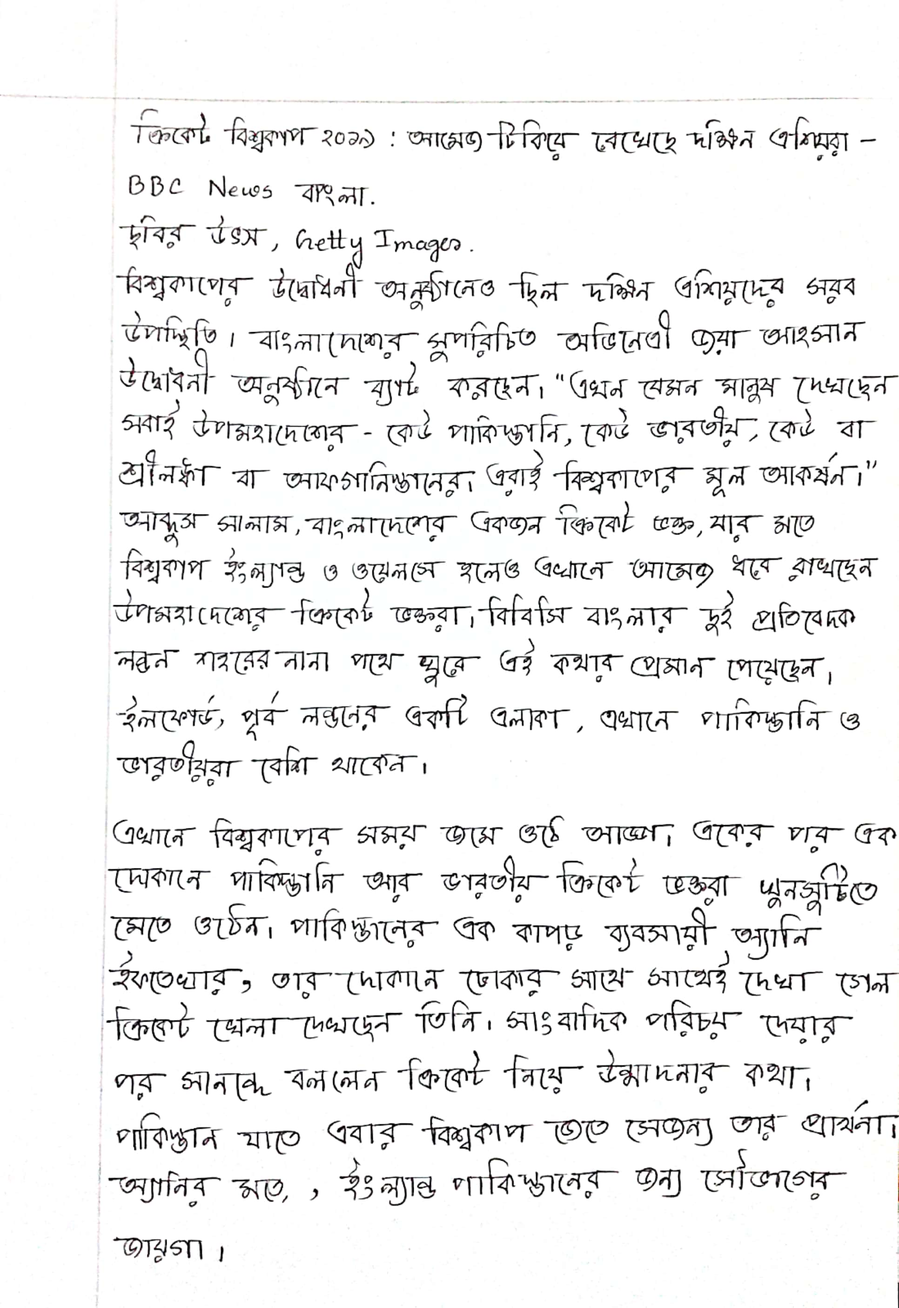line: (106, 343, 899, 416), (117, 105, 899, 169), (107, 1098, 899, 1161), (98, 901, 839, 968), (104, 856, 891, 919), (110, 1146, 846, 1213), (108, 1044, 849, 1105), (110, 307, 872, 366), (115, 682, 870, 741), (103, 445, 877, 501), (100, 400, 874, 454), (107, 254, 872, 307), (95, 951, 899, 1001), (111, 640, 867, 693), (107, 811, 899, 861), (100, 1001, 859, 1053), (101, 547, 885, 597), (98, 589, 864, 637), (118, 503, 823, 551), (121, 211, 481, 267), (94, 740, 444, 786), (118, 163, 399, 214), (106, 1212, 245, 1281)
